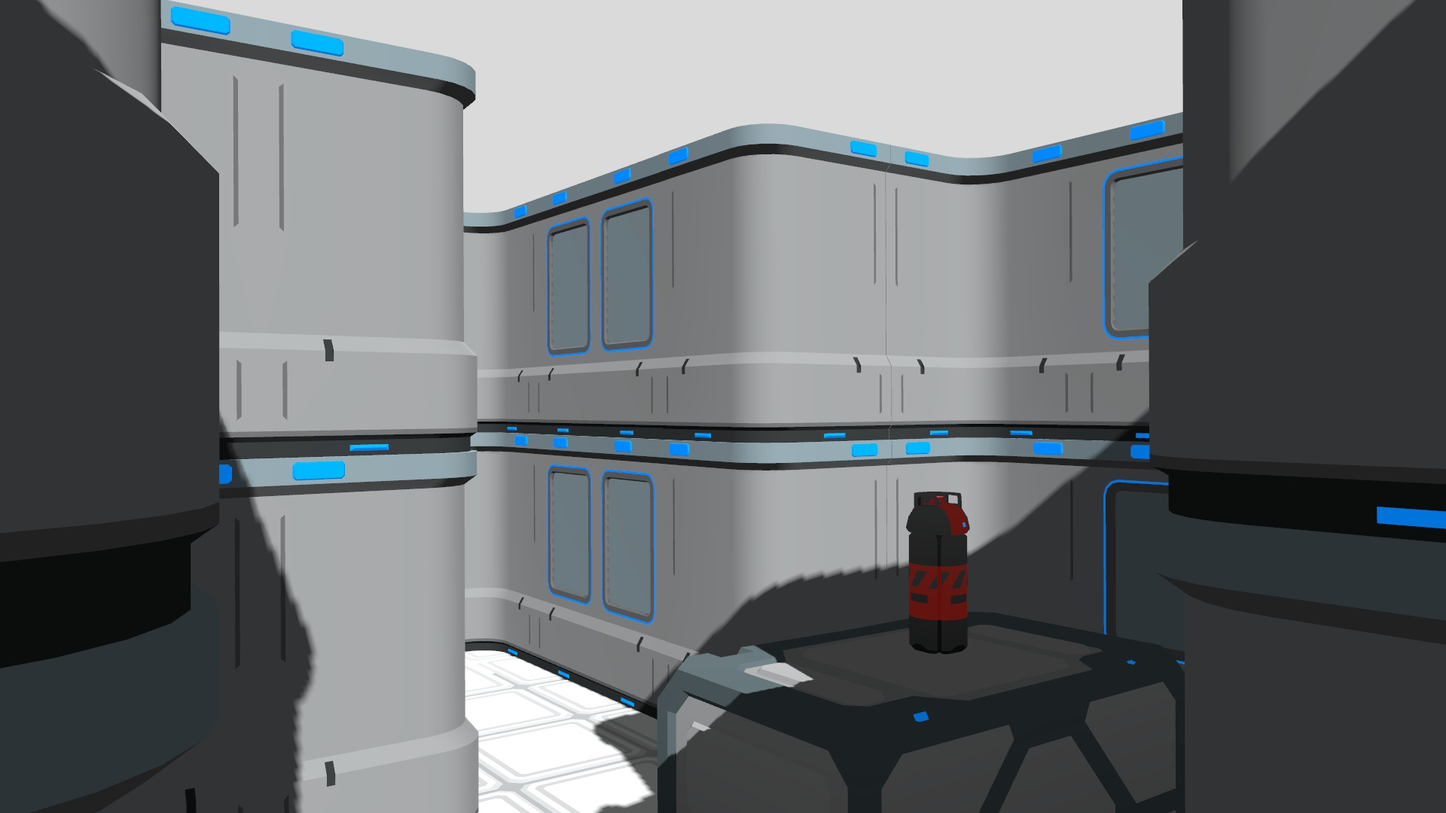red_barrel: (905, 485, 978, 661)
